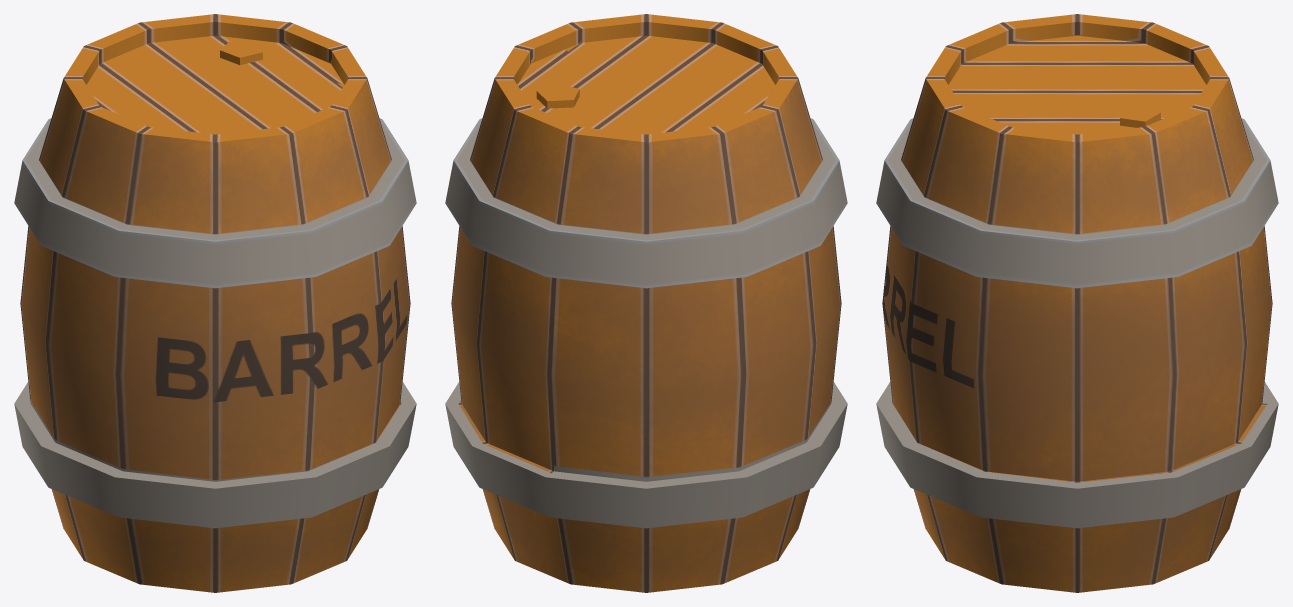
File: Barrel.fbx
The picture shows the model from 3 angles, left to right: view 1: azimuth 30°, elevation 25°; view 2: azimuth 150°, elevation 25°; view 3: azimuth 270°, elevation 25°; orthographic projection.
Visible parts, largest first — view 1: Barrel_LOD0; view 2: Barrel_LOD0; view 3: Barrel_LOD0.
Part boxes in pixels (<box>): Barrel_LOD0: <box>14,14,416,592</box>; Barrel_LOD0: <box>445,14,847,592</box>; Barrel_LOD0: <box>876,14,1278,592</box>.
Size of what is drawn, in the model's own units: 72.86 by 90 by 72.86.
